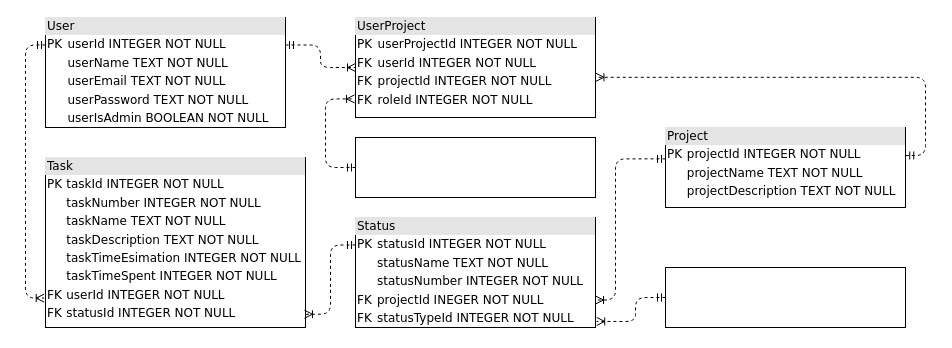
Image size: 952x348. Some labels were removed from this diagram. The centre of each missing label's shape, as x and y in pixels:
Role PK roleId INTEGER NOT NULL roleName TEXT NOT NULL: the point at 475,167
StatusType PK statusTypeId INTEGER NOT NULL statusTypeName TEXT NOT NULL: the point at 785,297
